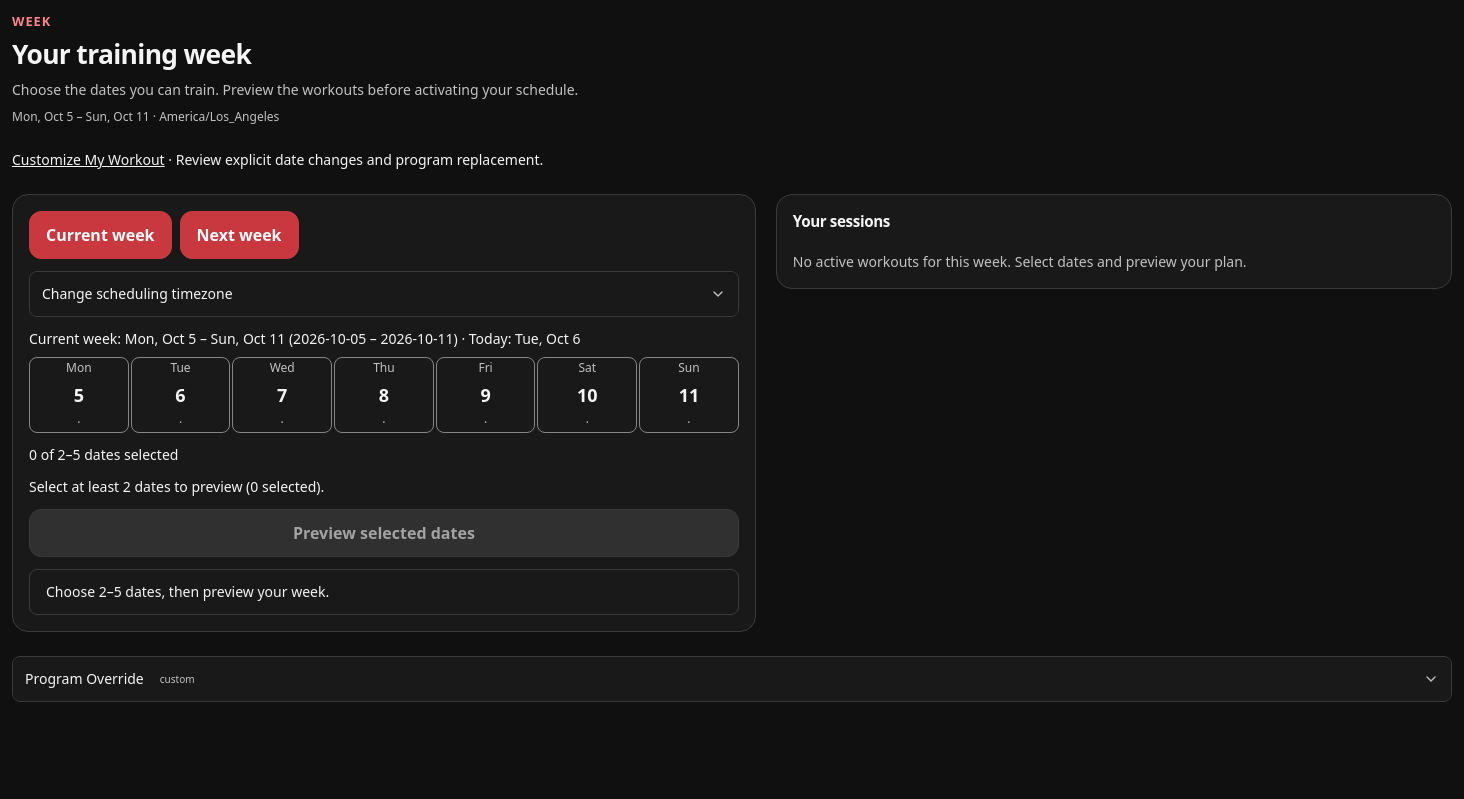
Test: unchanged preview requires explicit activation and refreshes placement revision
The image size is (1464, 799).
Click the checkbox named "Tue, Oct 6": [181, 395] box [131,357,230,433]
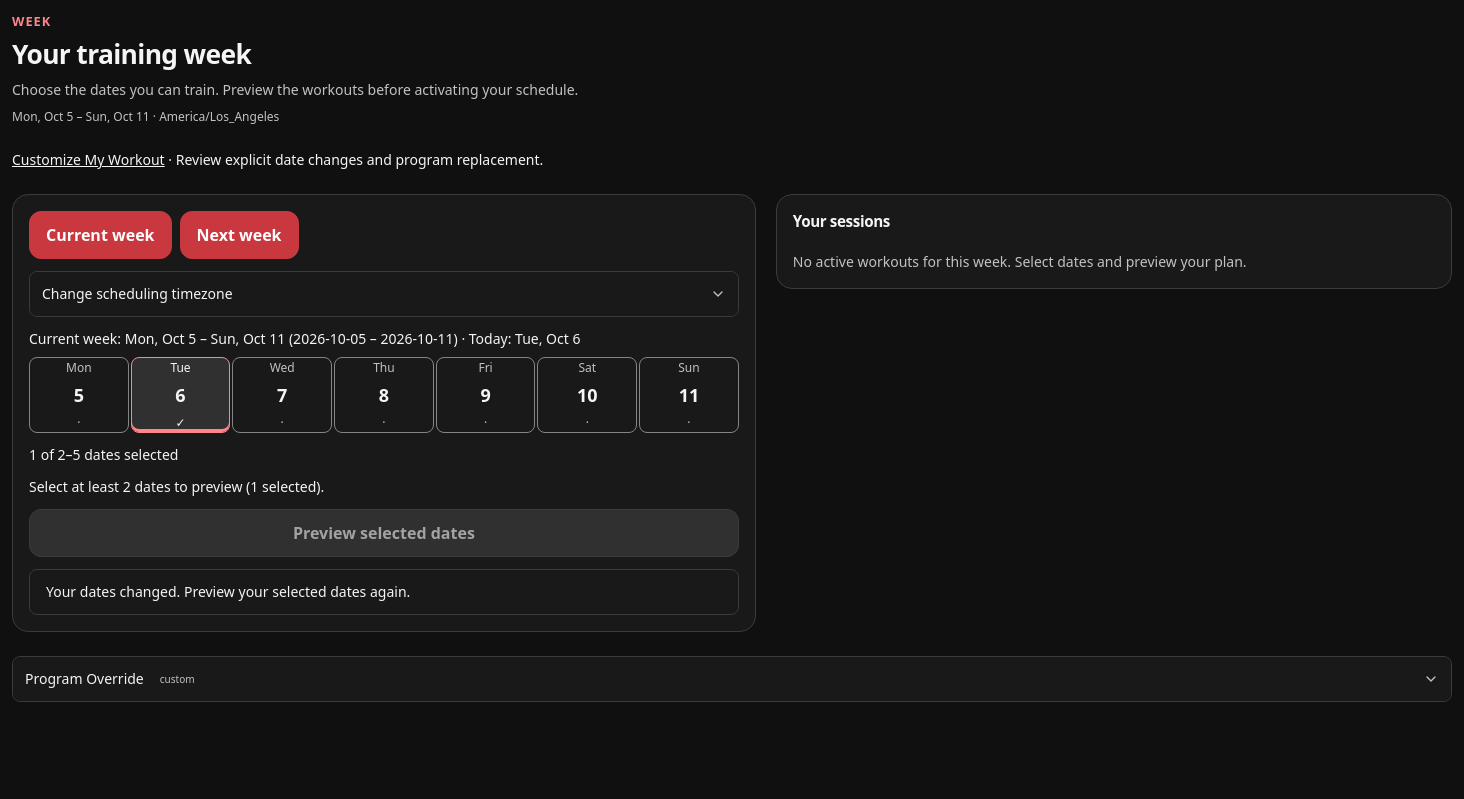
Click the checkbox named "Fri, Oct 9": [486, 395] box [436,357,535,433]
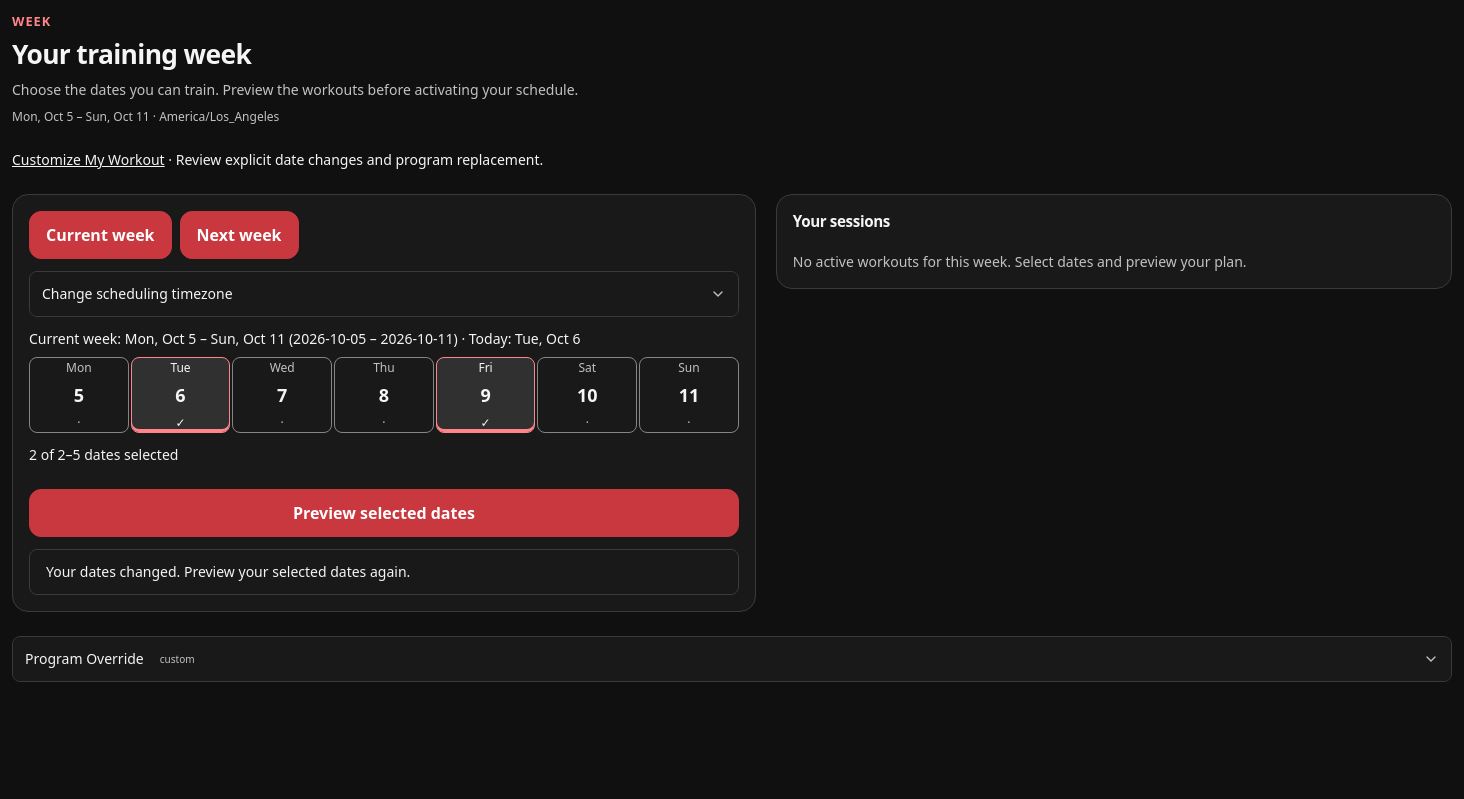
Click the checkbox named "Sun, Oct 11": [689, 395] box [639,357,739,433]
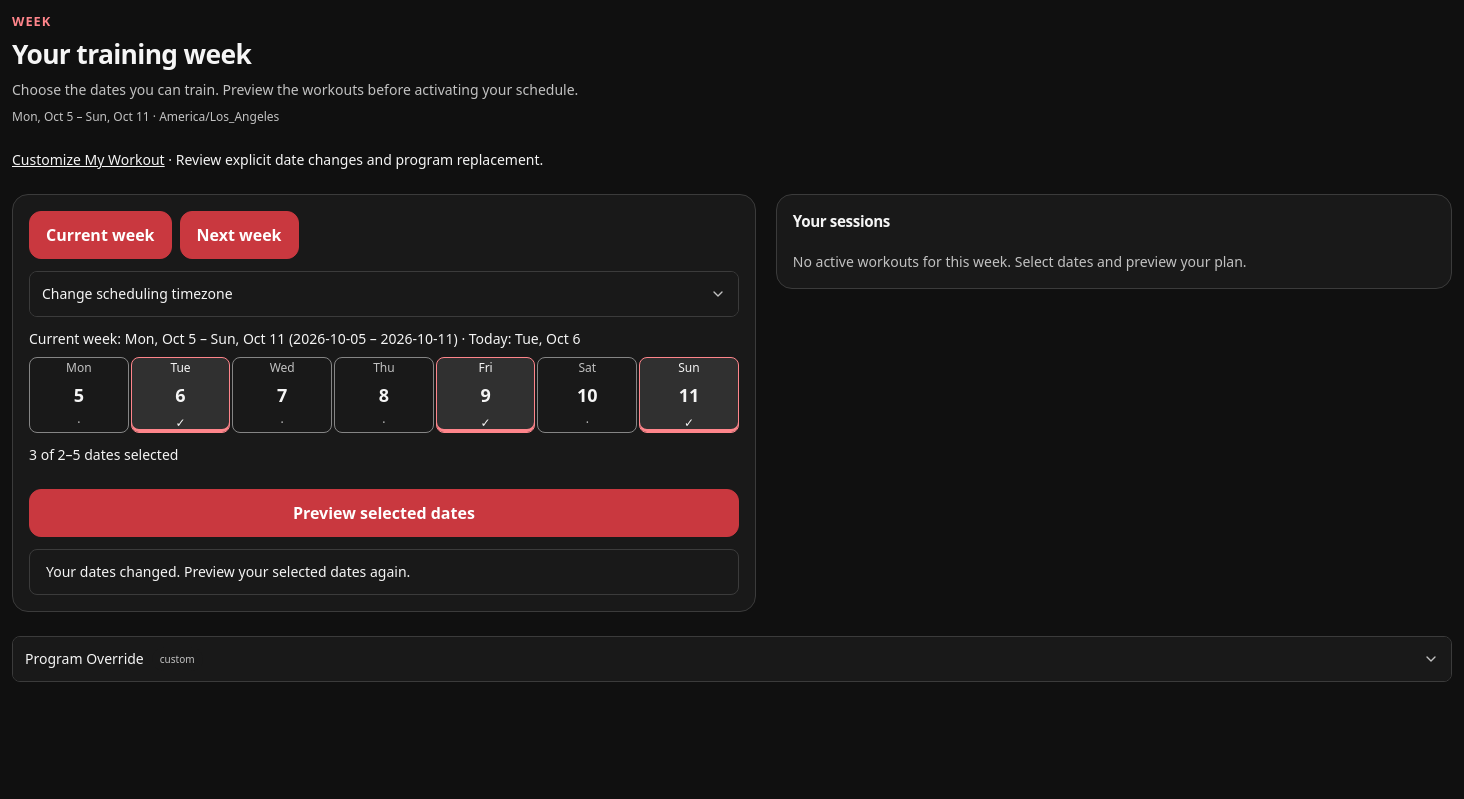
Click the button "Preview selected dates": [384, 513] box [29,489,739,537]
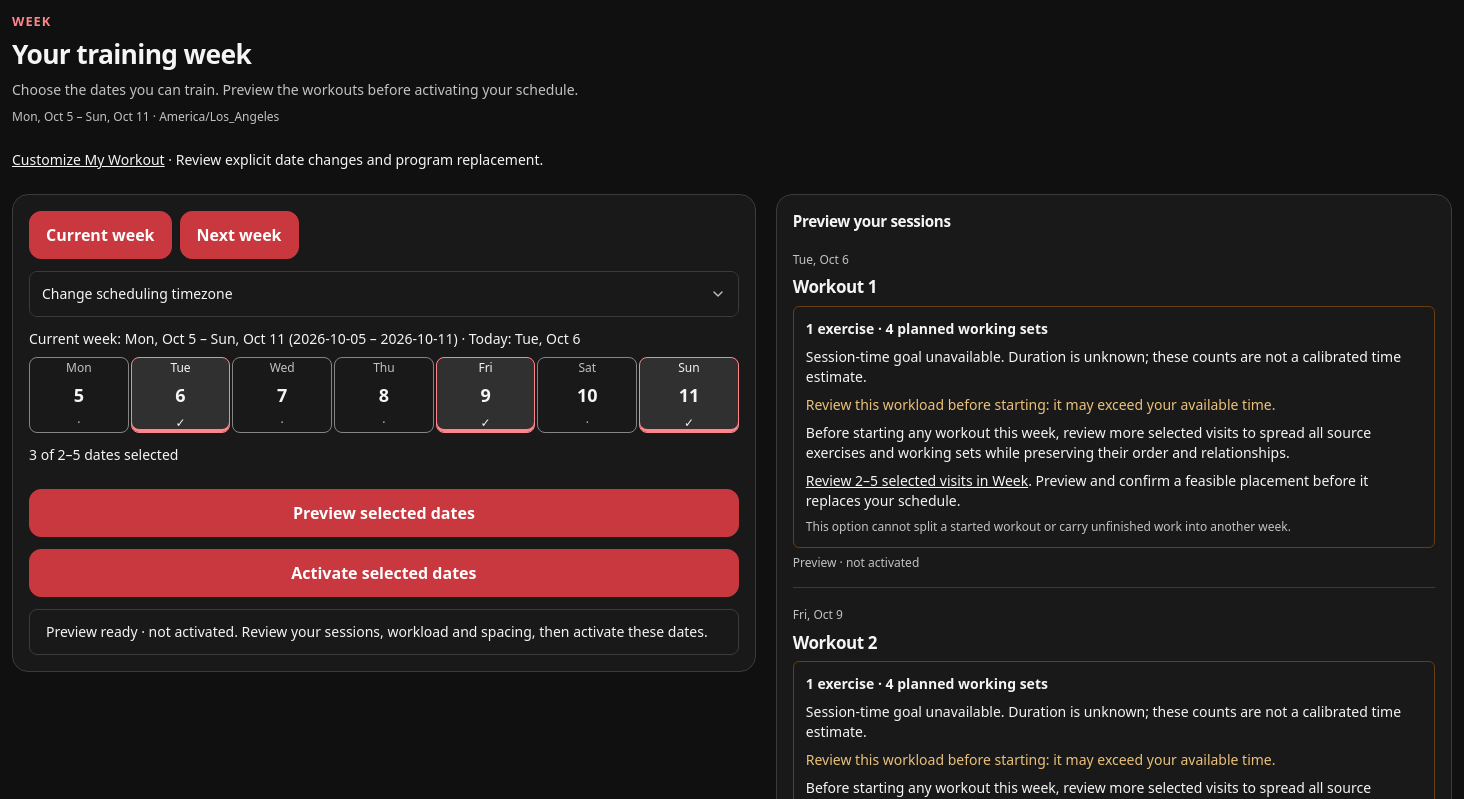
Click the button "Activate selected dates": [384, 573] box [29,549,739,597]
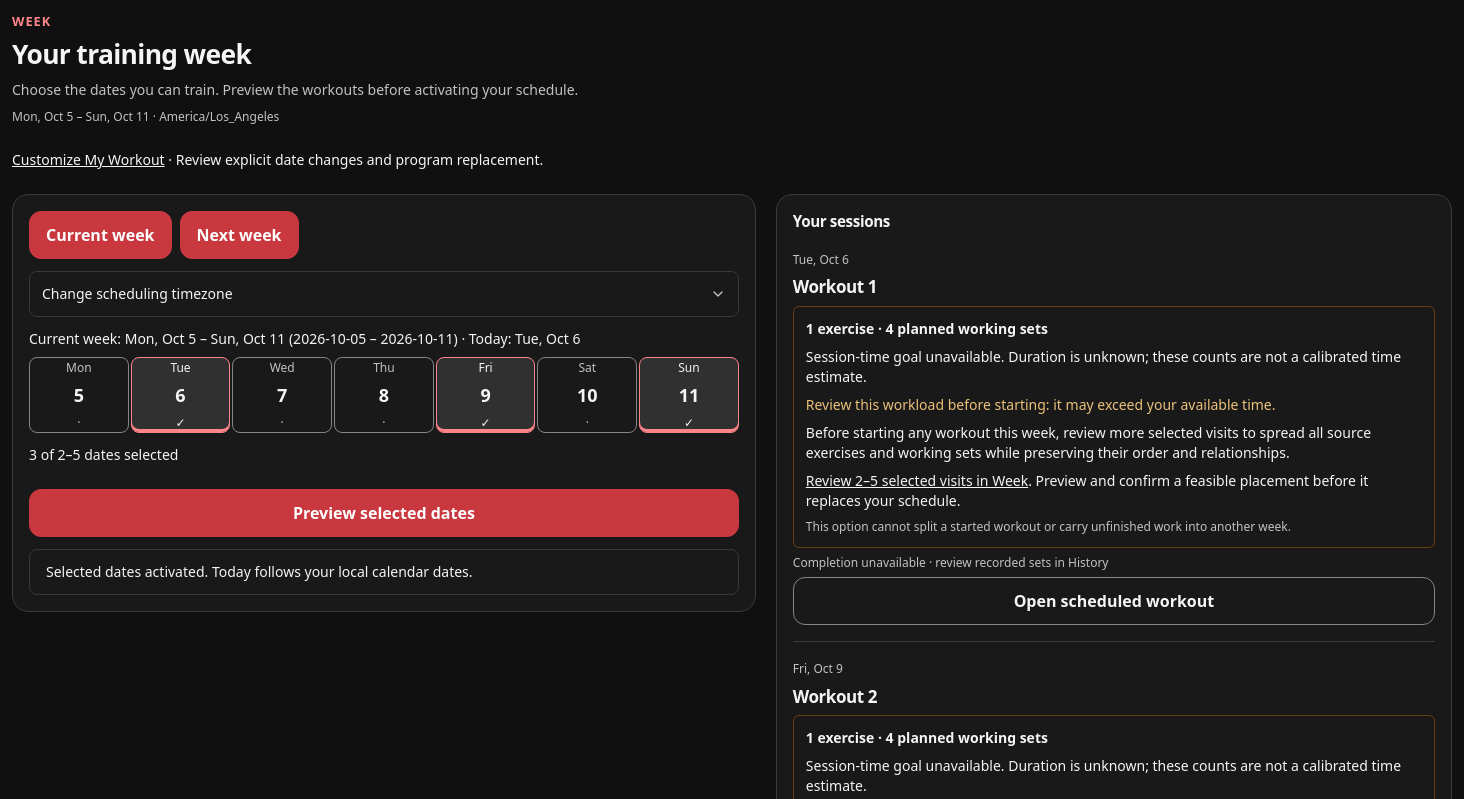
Expected: the text "Selected dates activated" is shown, [46,562,473,581]
Expected: the button "Activate selected dates" is gone
